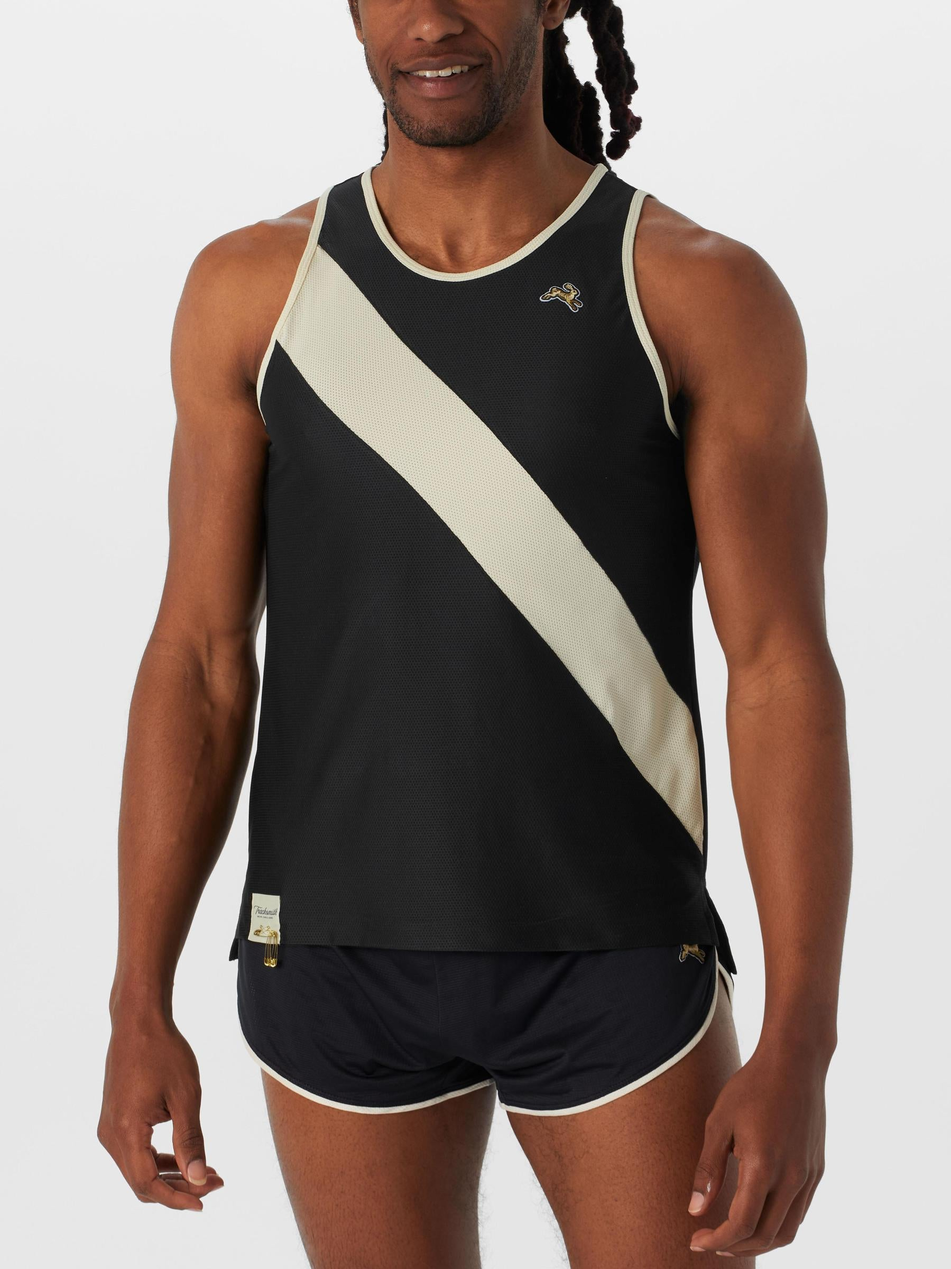egg: (95, 127, 855, 1142)
